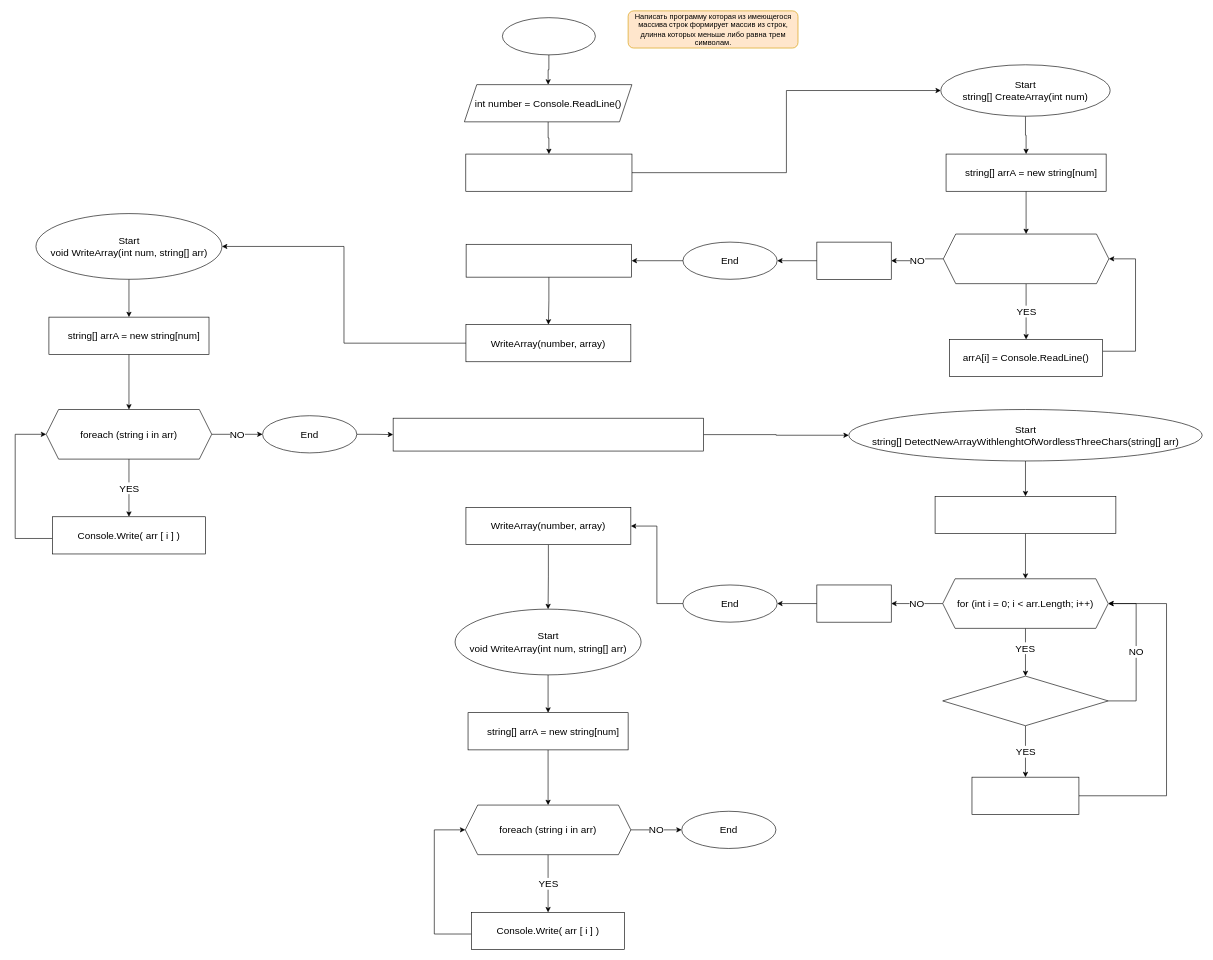
Image size: 1213x960. Some labels were removed from this diagram. Each missing label, with the centre of its shape:
"array = DetectNewArrayWithlenghtOfWordlessThreeChars(array);" belongs at (x=548, y=434).
"arrB [count] = arr [ i ] count++" belongs at (x=1025, y=795).
"for (int i = 0; i < arrA.Length; i++)" belongs at (x=1026, y=258).
"if (arr [ i ].Length <= 3)" belongs at (x=1025, y=700).
"return arrA" belongs at (x=853, y=260).
"return arrB" belongs at (x=853, y=603).
"Start" belongs at (x=548, y=36).
"string[] array = CreateArray(number)" belongs at (x=548, y=172).
"string[] array = return arrA" belongs at (x=548, y=260).
"string[] arrB = new string[arr.Length] int count = default" belongs at (x=1025, y=515).
